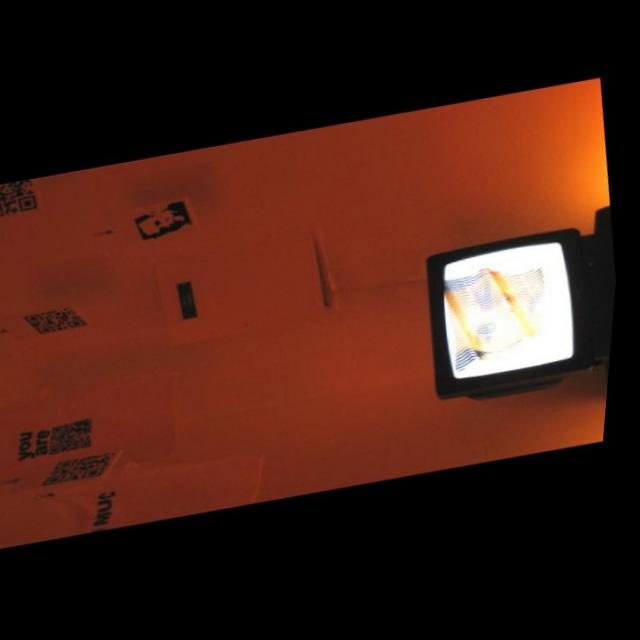qrcode: (48, 454, 127, 486), (27, 306, 95, 338), (55, 420, 103, 456), (1, 179, 44, 219)
